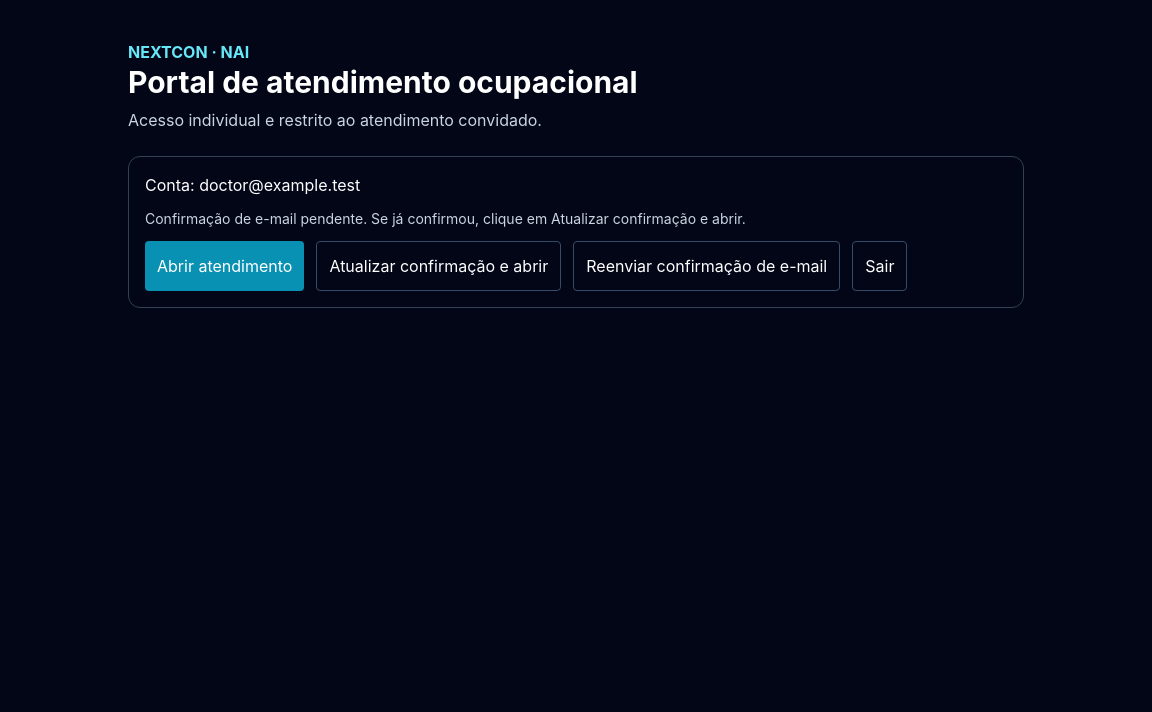
it: reloads the account before refreshing the token after email verification
Click the button "Atualizar confirmação e abrir" at (439, 266), box [316,241,561,291]
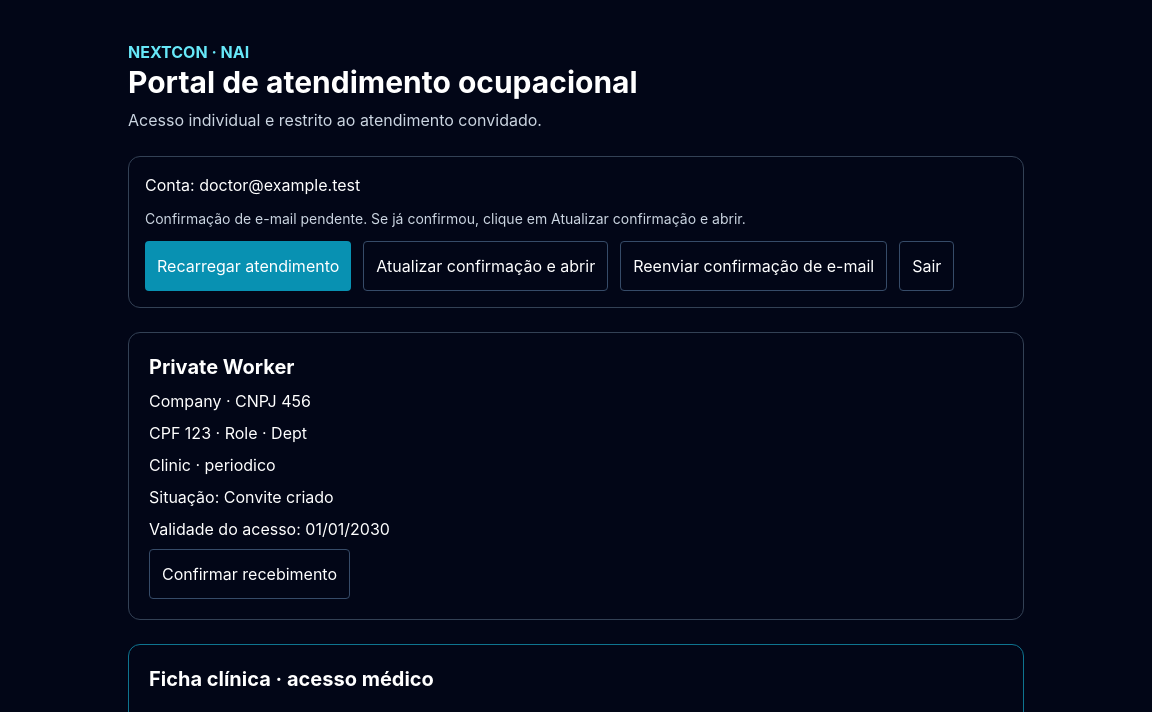
Check: the text "Private Worker" is shown, box [149,355,294,379]
